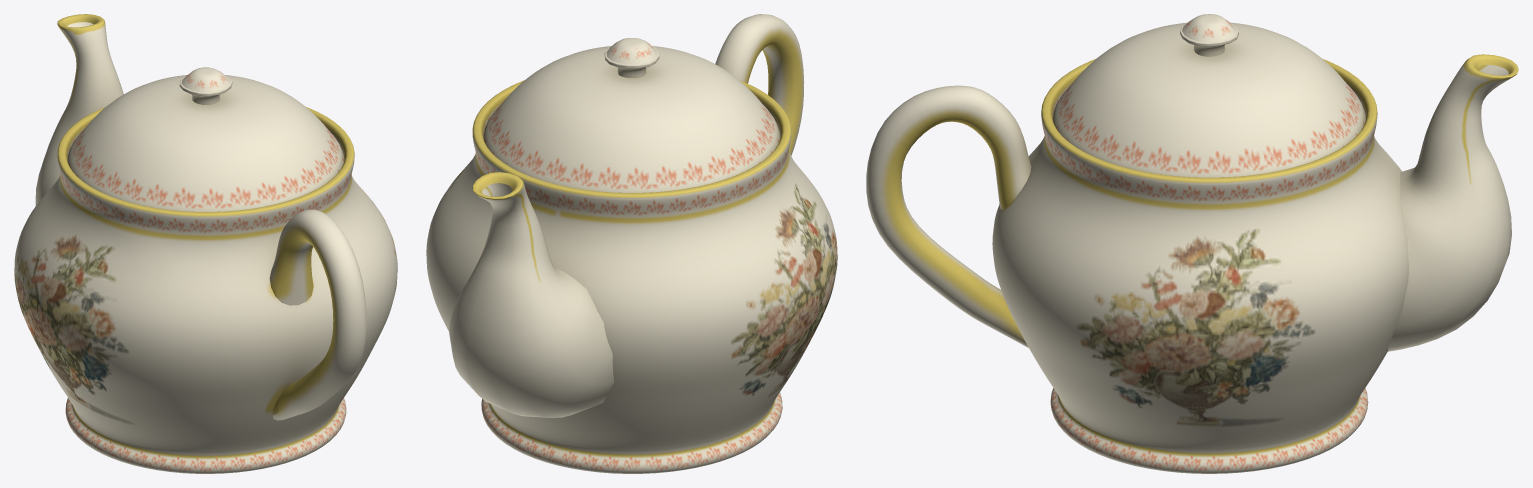
The model's file is teapot.glb.
The picture shows the model from 3 angles, left to right: view 1: azimuth 30°, elevation 25°; view 2: azimuth 150°, elevation 25°; view 3: azimuth 270°, elevation 25°; orthographic projection. The views are drawn at different scales.
Visible parts, largest first — view 1: teapot, top, handle, nose, pipka; view 2: teapot, top, nose, handle, pipka; view 3: teapot, top, nose, handle, pipka.
Part boxes in pixels (x1,y1,x2,y2): teapot: (14, 107, 397, 473); top: (67, 75, 344, 211); handle: (269, 209, 366, 420); nose: (35, 14, 123, 205); pipka: (179, 67, 232, 104); teapot: (426, 80, 837, 473); top: (483, 46, 780, 192); nose: (449, 172, 614, 417); handle: (715, 14, 804, 155); pipka: (604, 38, 659, 77); teapot: (992, 59, 1408, 473); top: (1053, 22, 1365, 177); nose: (1388, 54, 1518, 351); handle: (866, 85, 1031, 347); pipka: (1180, 14, 1238, 56).
Bounding box in the file's own units: 0.0206 × 0.0205 × 0.031.
1 material, 1 textured.
